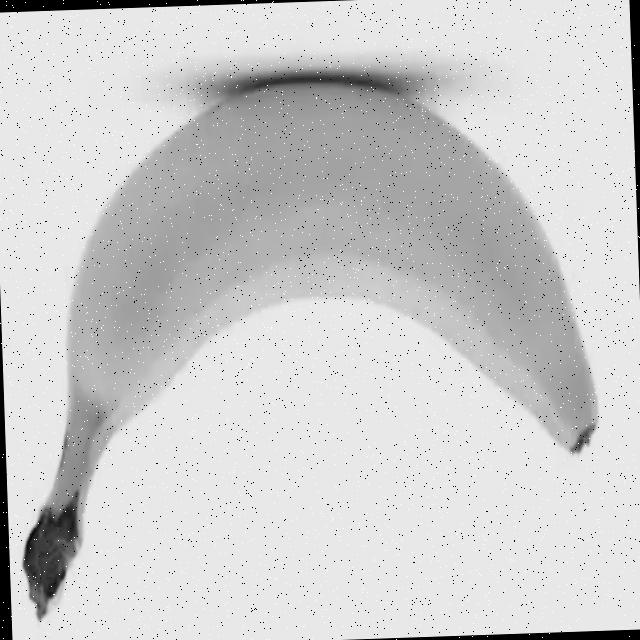Ripe: (39, 57, 604, 553)
